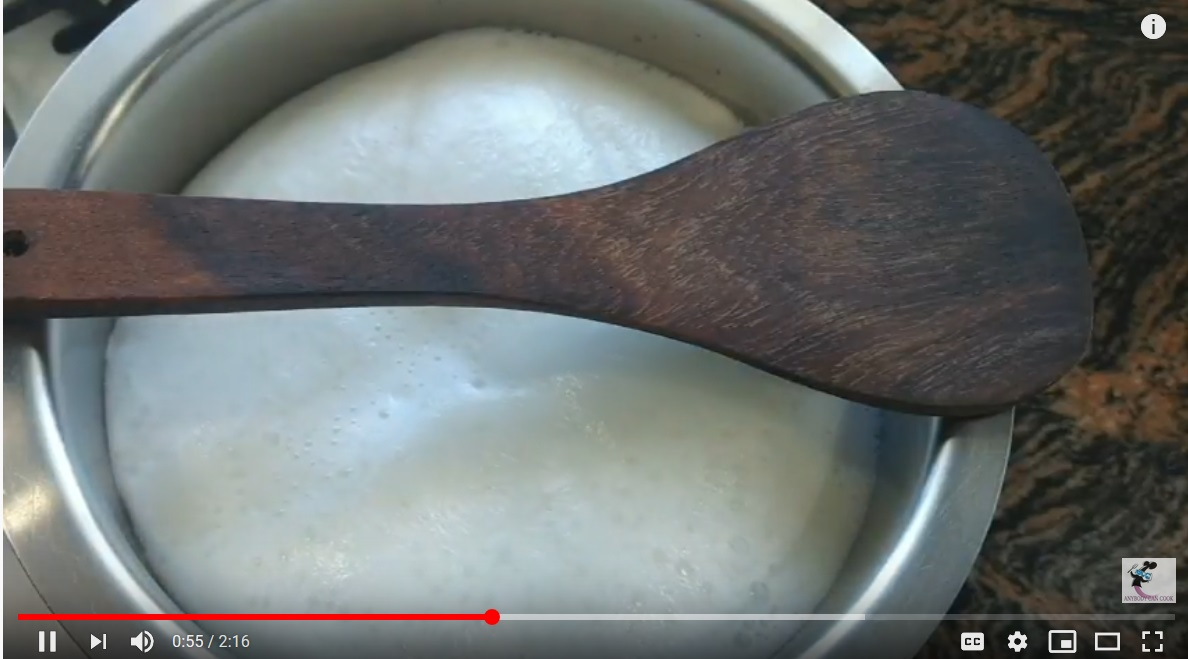Steaming: (54, 25, 925, 614)
